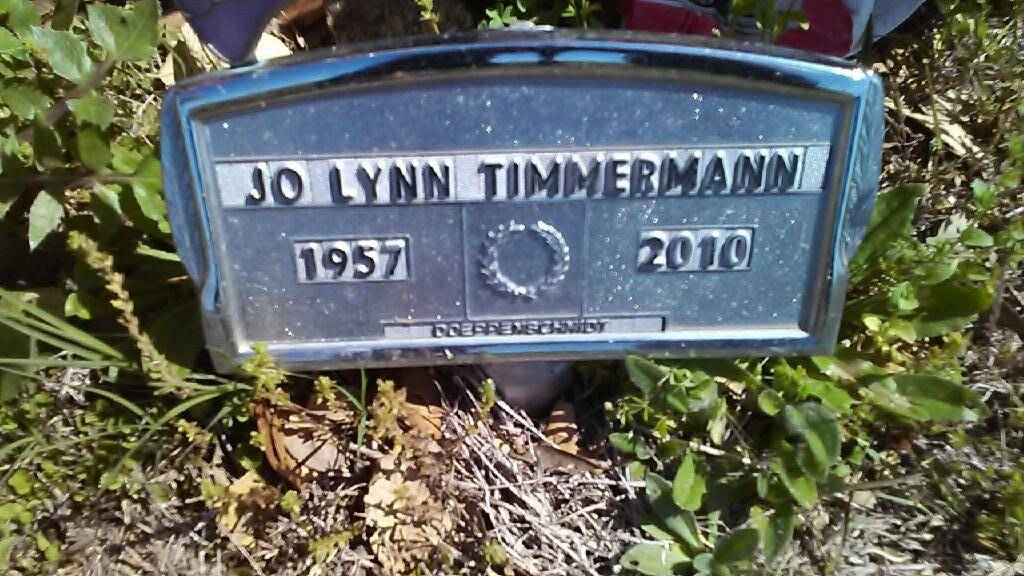upright: (142, 30, 895, 392)
